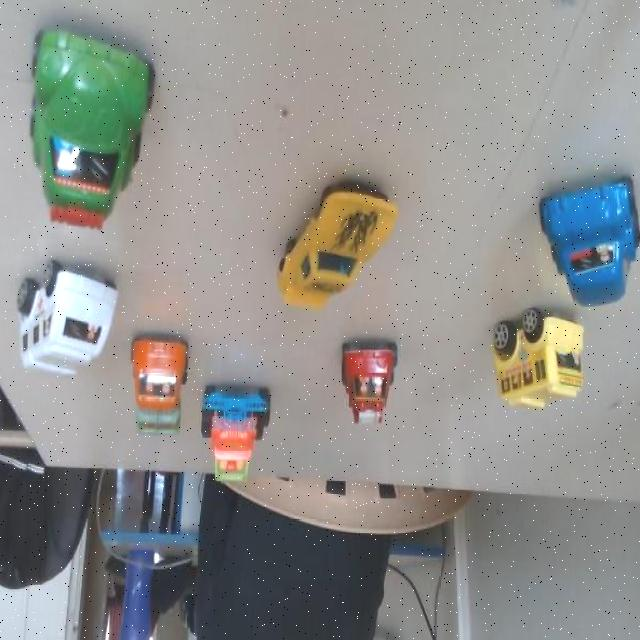car: (0, 29, 166, 234), (2, 243, 127, 396), (260, 182, 399, 310), (539, 171, 640, 311), (481, 302, 575, 409), (324, 322, 406, 438), (201, 384, 285, 492), (122, 328, 192, 449)
